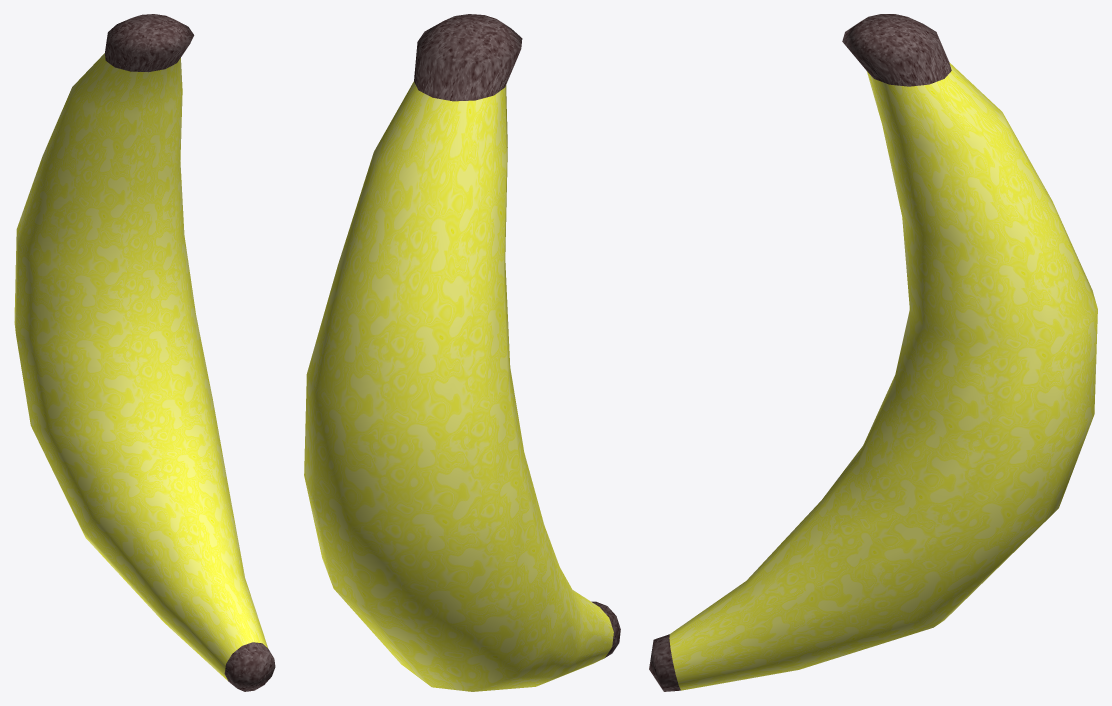
Rendered from Banana.fbx.
The picture shows the model from 3 angles, left to right: view 1: azimuth 30°, elevation 25°; view 2: azimuth 150°, elevation 25°; view 3: azimuth 270°, elevation 25°; orthographic projection. The views are drawn at different scales.
Parts seen in each view (by area): view 1: Banana; view 2: Banana; view 3: Banana.
Boxes of the visible parts, left/top/right/bottom form: Banana: left=14, top=14, right=275, bottom=691; Banana: left=304, top=14, right=620, bottom=691; Banana: left=649, top=14, right=1097, bottom=691.
Bounding box in the file's own units: 0.5807 × 2.09 × 1.27.
